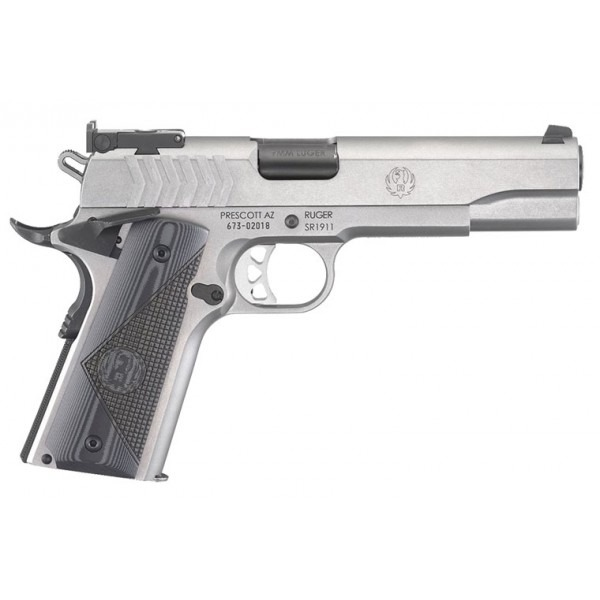gun: (10, 118, 591, 489)
